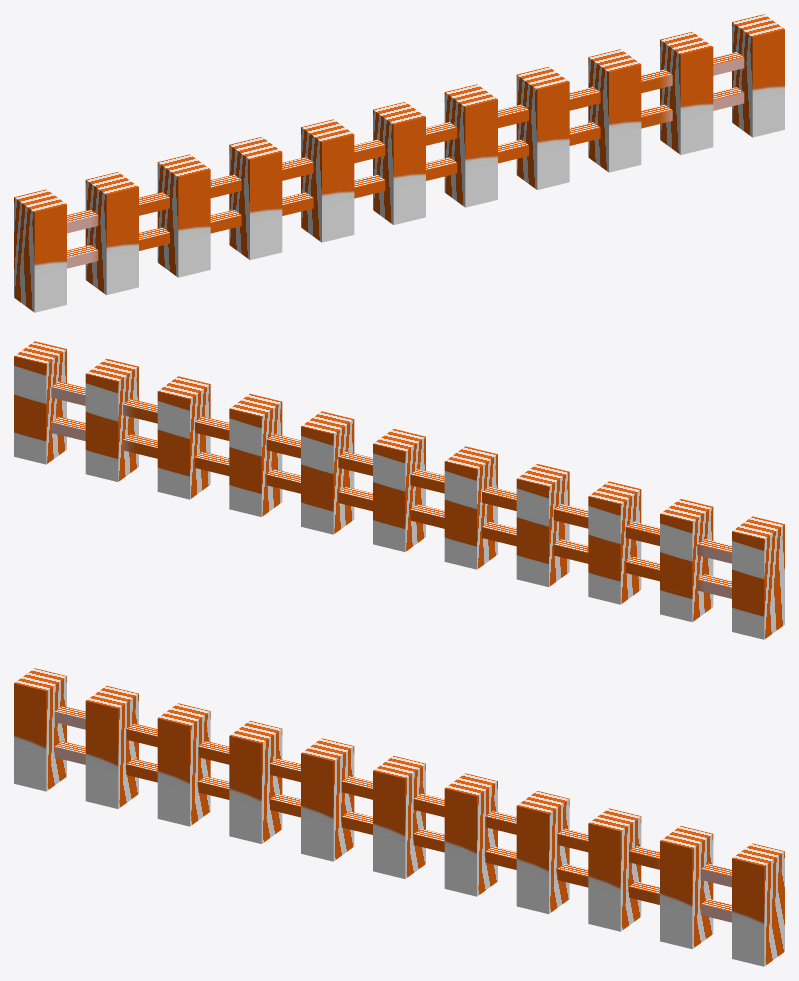
The model's file is Fence.fbx.
3 views of the same model, one above another, from view 1: azimuth 30°, elevation 25°; view 2: azimuth 150°, elevation 25°; view 3: azimuth 330°, elevation 25° (orthographic).
Visible parts, largest first — view 1: fence_short_mesh; view 2: fence_short_mesh; view 3: fence_short_mesh.
Part boxes in pixels (x1,y1,x2,y2): fence_short_mesh: (14, 14, 784, 312); fence_short_mesh: (14, 341, 784, 639); fence_short_mesh: (14, 668, 784, 966).
Size of the model in its own units: 836 by 107 by 39.99.
